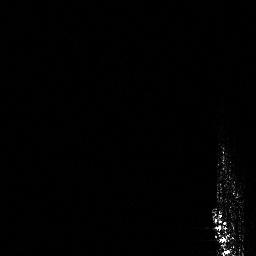ship: (212, 140, 249, 256)
